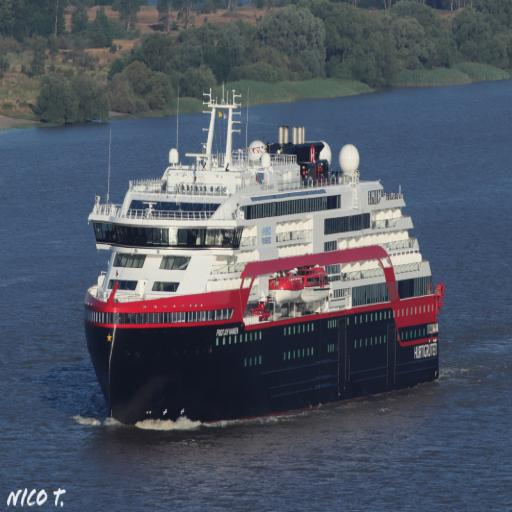cruises: (82, 81, 453, 433)
